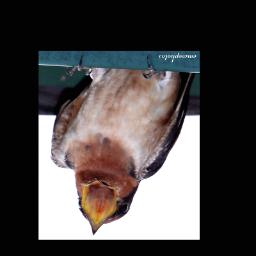Swallow: (50, 56, 194, 236)
